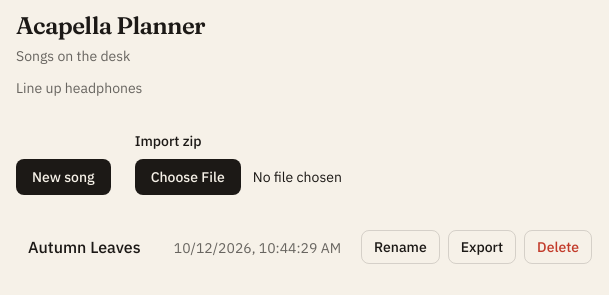
Test case: HomePage › deletes a song only after confirmation, and drops its audio blobs
This screenshot has width=609, height=295.
Expected: the text "Autumn Leaves" is shown, [28,235,140,259]
Click the button with aria-label "Delete Autumn Leaves".
click(558, 247)  # box [524,230,592,264]
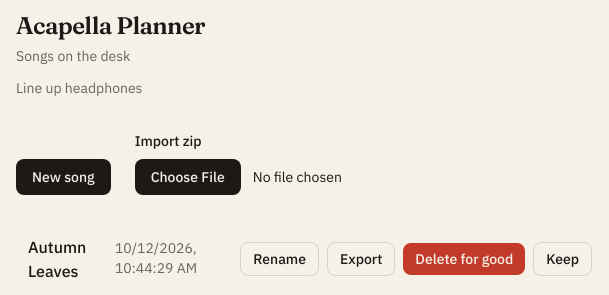
Click the button with aria-label "Confirm delete Autumn Leaves".
click(464, 259)  # box [403,243,525,275]
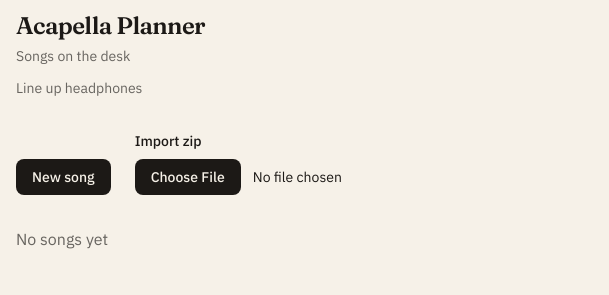
Expected: the text "No songs yet" is shown, [16,229,108,249]
